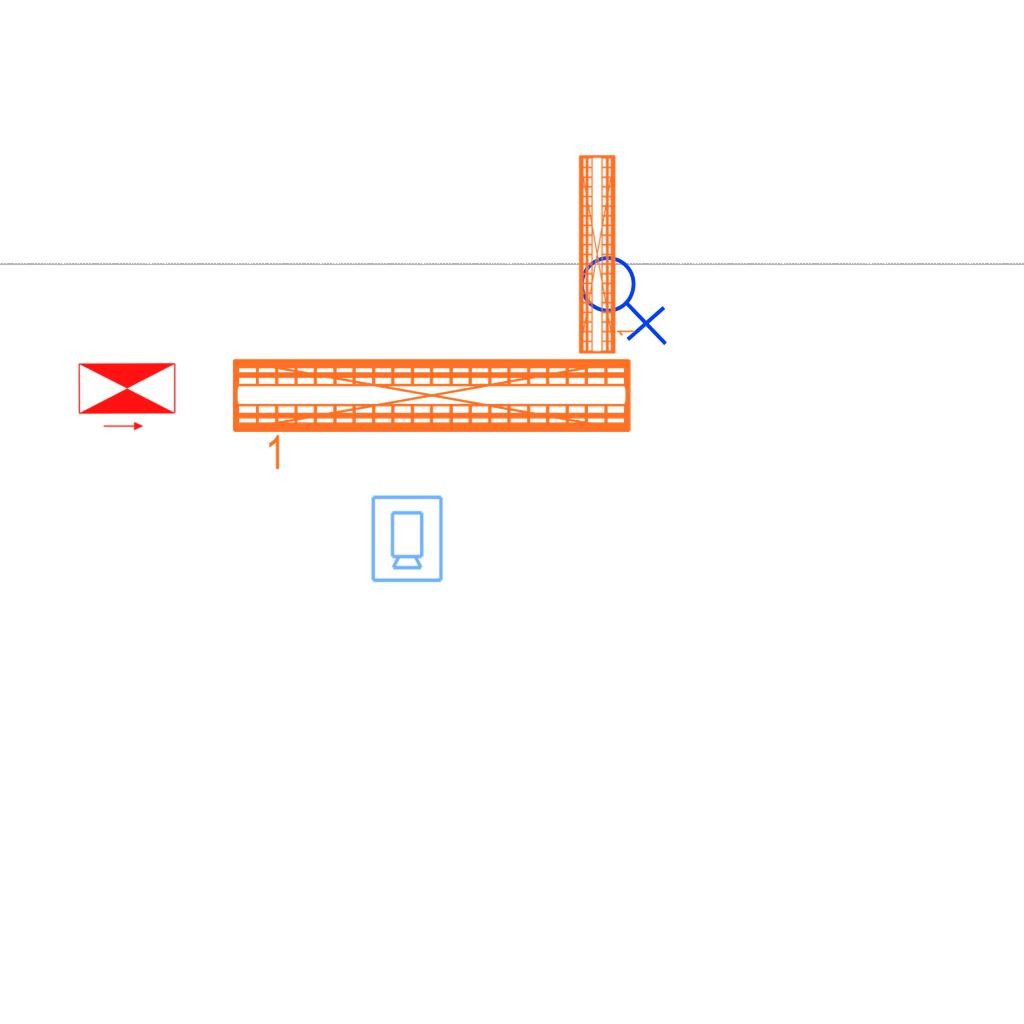Buero_Pendelleuchten_LED: (226, 349, 639, 479), (574, 151, 639, 357)
Elektroanschluss_allgemein_230V_Geraeteanschlussdose_230V: (578, 247, 672, 346)
Fluchtwegpiktogramm: (75, 360, 179, 433)
KFO_Kamera_mit_Festobjektiv: (368, 493, 445, 584)
